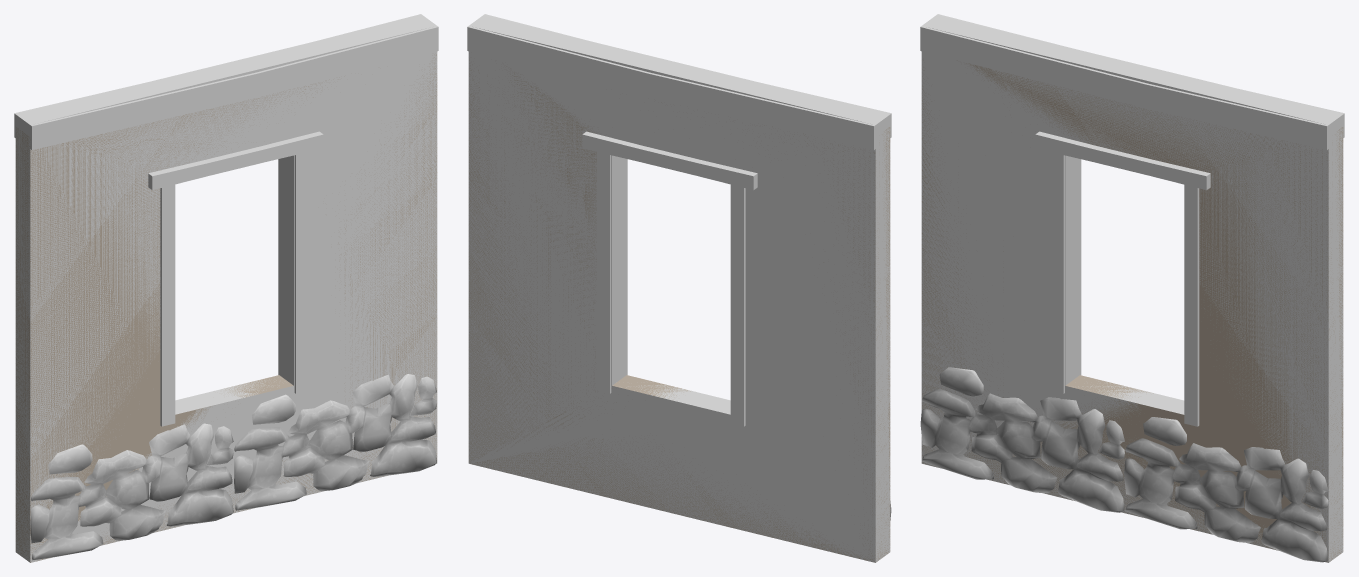
Rendered from Foundation_Wall_1_Door_1_2X.fbx.
The picture shows the model from 3 angles, left to right: view 1: azimuth 30°, elevation 25°; view 2: azimuth 150°, elevation 25°; view 3: azimuth 330°, elevation 25°; orthographic projection.
Parts seen in each view (by area): view 1: Foundation_Wall_1_Door_1_2X_LOD0, Foundation_Wall_1_Door_1_2X_COL0; view 2: Foundation_Wall_1_Door_1_2X_COL0, Foundation_Wall_1_Door_1_2X_LOD0; view 3: Foundation_Wall_1_Door_1_2X_COL0, Foundation_Wall_1_Door_1_2X_LOD0.
Boxes of the visible parts, box(x1,y1,x2,y2) form: Foundation_Wall_1_Door_1_2X_LOD0: box(14, 14, 438, 562); Foundation_Wall_1_Door_1_2X_COL0: box(15, 15, 437, 562); Foundation_Wall_1_Door_1_2X_COL0: box(468, 15, 890, 562); Foundation_Wall_1_Door_1_2X_LOD0: box(467, 14, 891, 562); Foundation_Wall_1_Door_1_2X_COL0: box(921, 15, 1343, 562); Foundation_Wall_1_Door_1_2X_LOD0: box(920, 14, 1344, 562).
Size of what is drawn, in the model's own units: 400 by 411 by 38.99.
